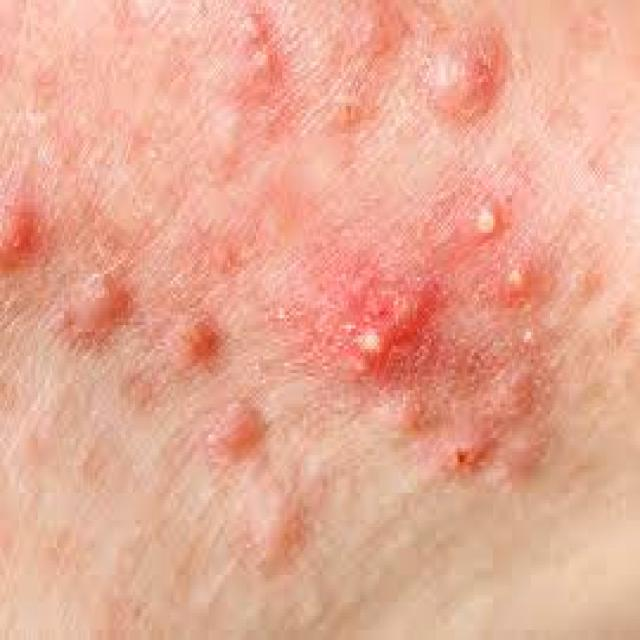Acne: (333, 270, 445, 382), (325, 0, 413, 139), (424, 30, 514, 114), (234, 466, 304, 574), (62, 264, 136, 350), (339, 316, 402, 368), (0, 200, 45, 272), (496, 427, 546, 482), (184, 311, 224, 371), (216, 406, 260, 454), (500, 358, 534, 418), (444, 431, 483, 483), (468, 197, 504, 247), (562, 256, 596, 308), (500, 260, 530, 298), (235, 10, 262, 46), (250, 49, 276, 81)
